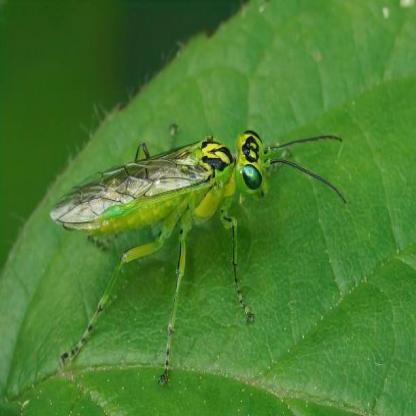sawfly: (47, 117, 354, 383)
